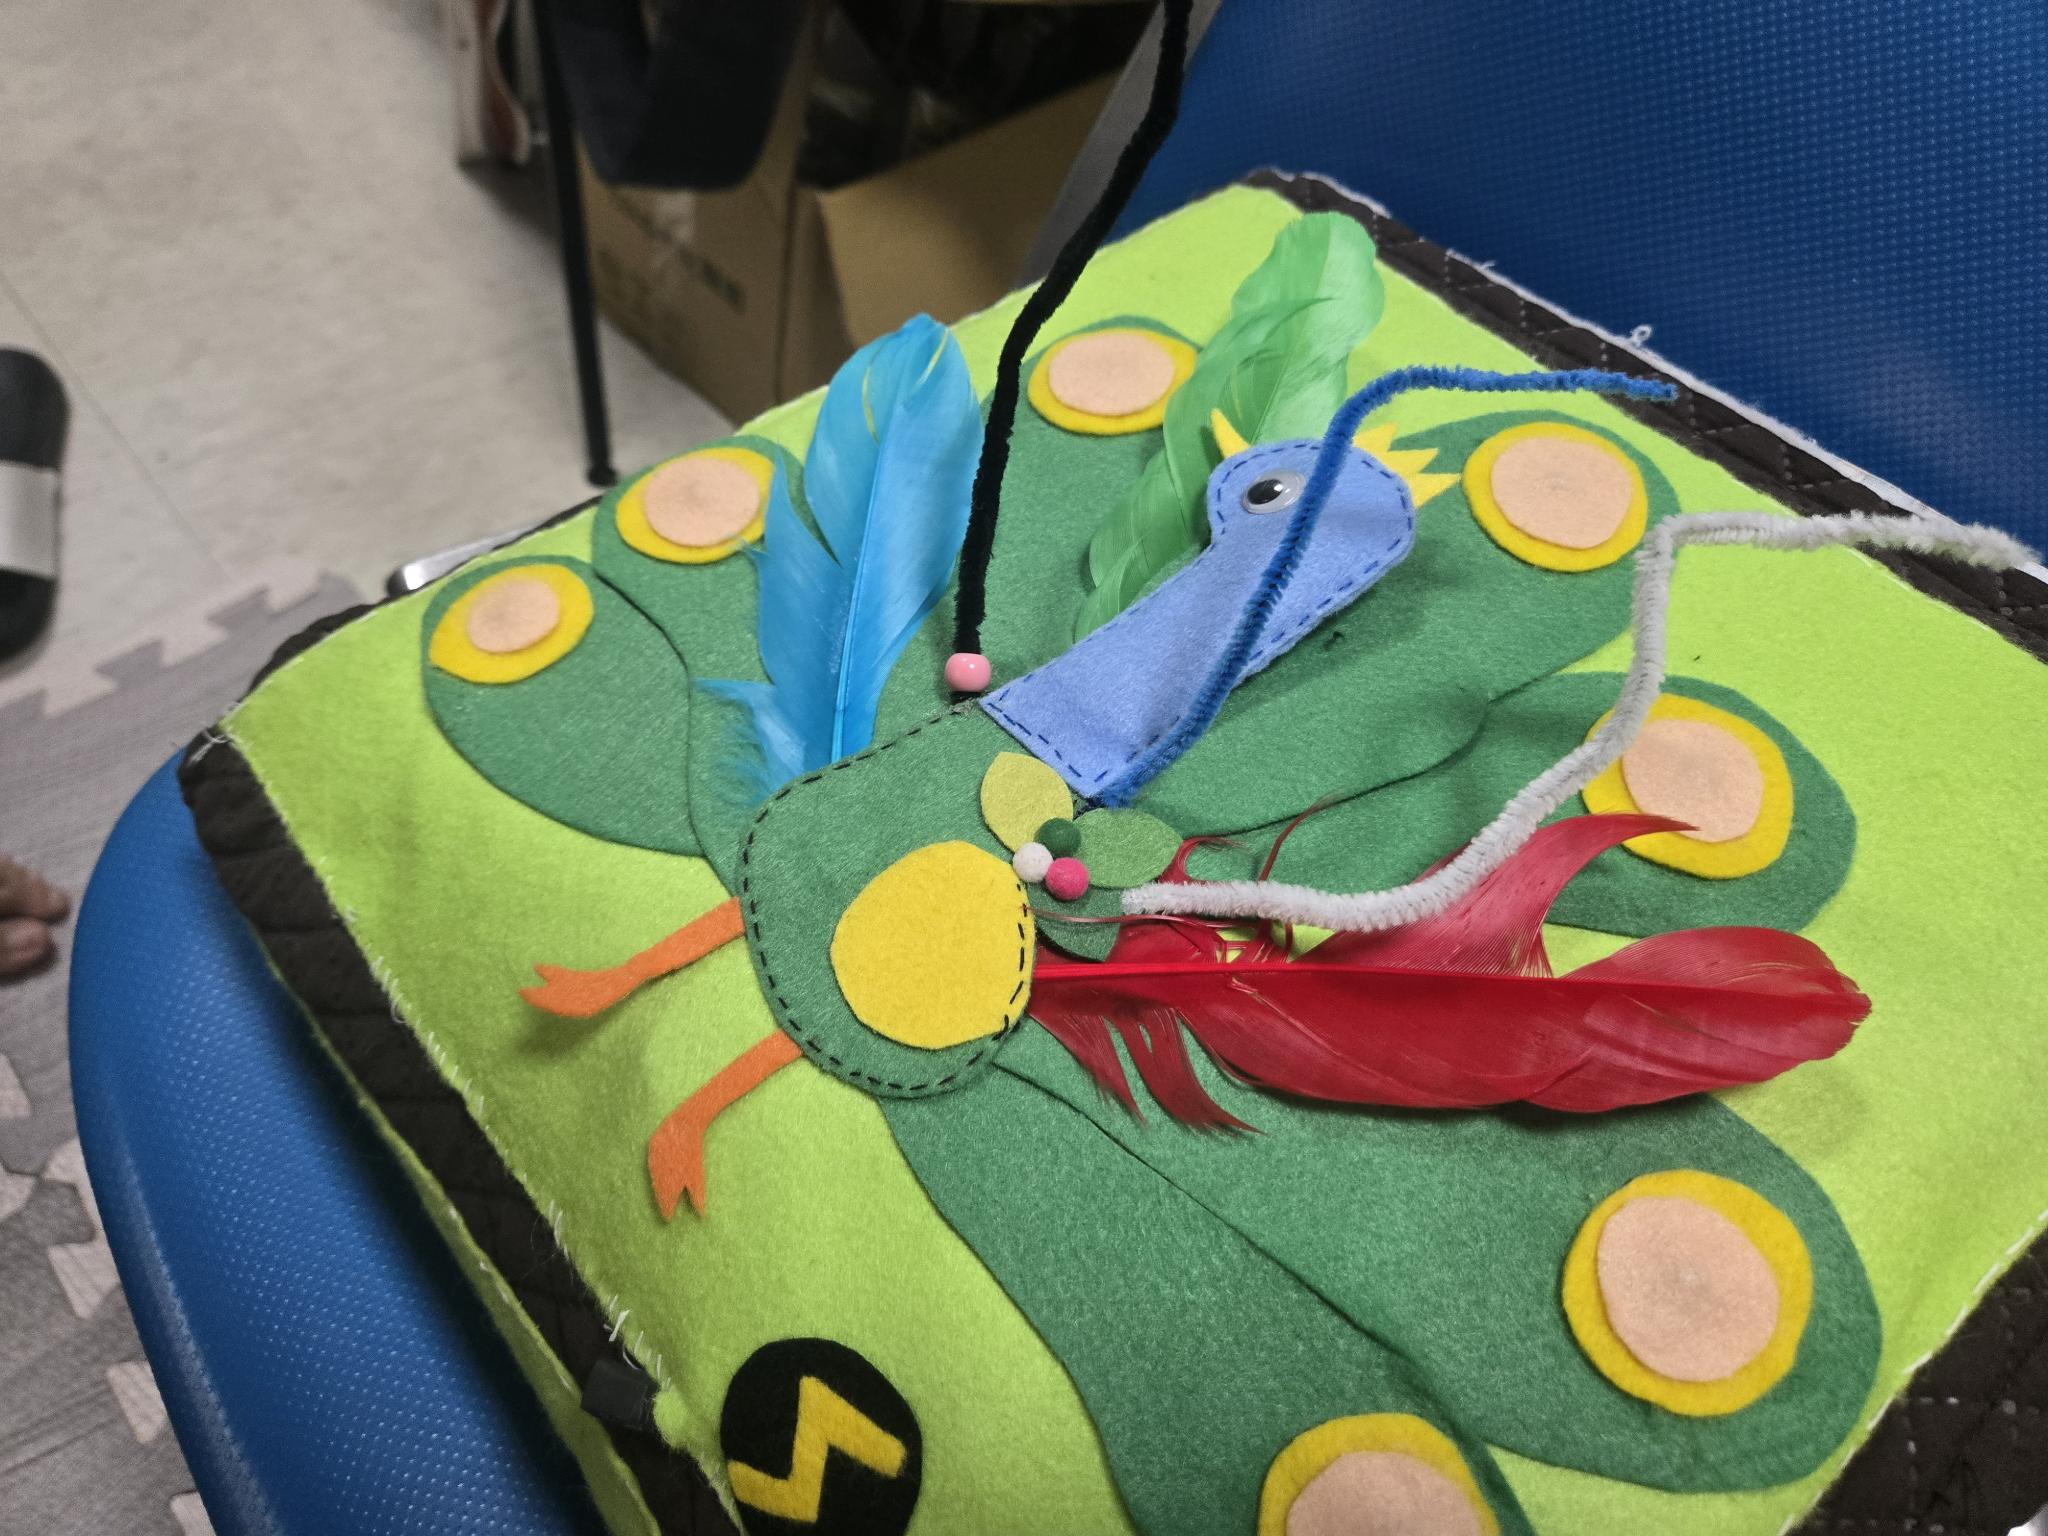bead: (922, 640, 1020, 710)
